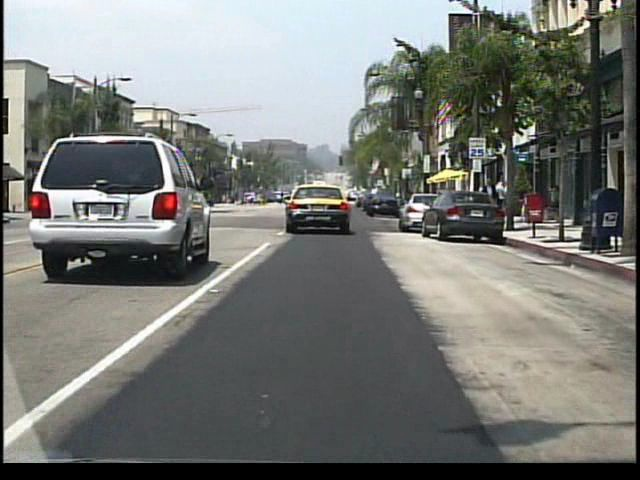person: (481, 177, 500, 223), (484, 179, 499, 220), (500, 181, 513, 219), (496, 184, 506, 212), (278, 190, 286, 205)
